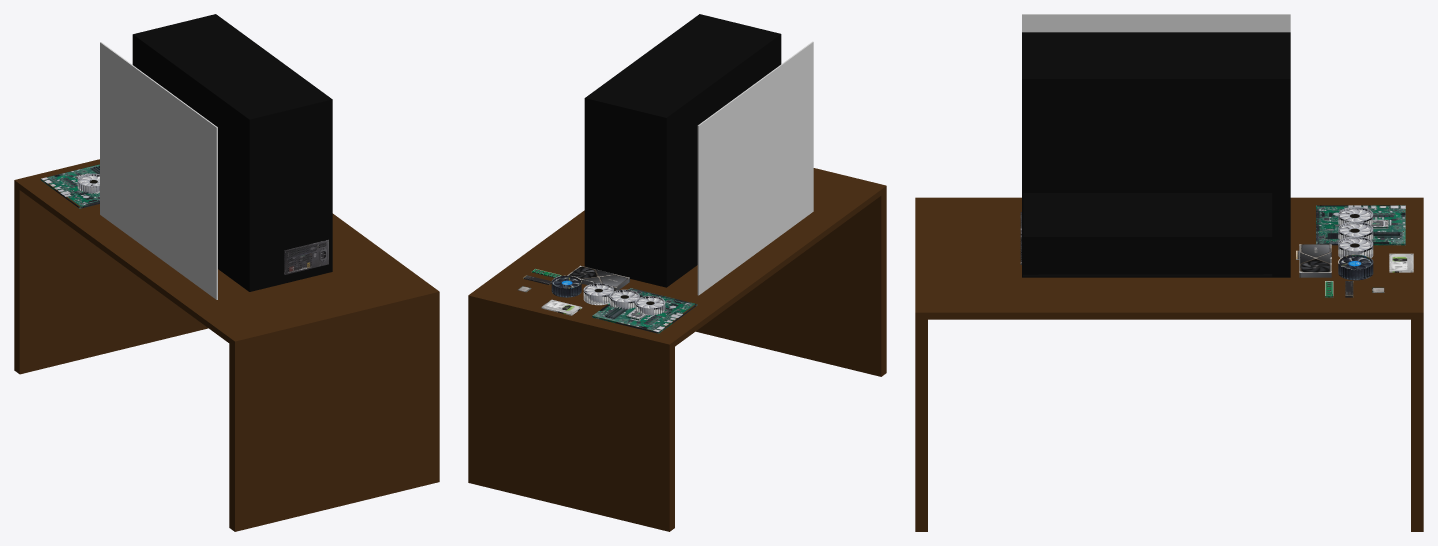
The picture shows the model from 3 angles, left to right: view 1: azimuth 30°, elevation 25°; view 2: azimuth 150°, elevation 25°; view 3: azimuth 270°, elevation 25°; orthographic projection. The views are drawn at different scales.
Parts seen in each view (by area): view 1: Cube, PC, PC.001, MotherBoard; view 2: Cube, PC, PC.001, MotherBoard, Cylinder.001, VGA, Cpu Fan; view 3: PC, Cube, PC.001, MotherBoard, Cylinder.001, VGA, Cpu Fan.
Boxes of the visible parts, box(x1,y1,x2,y2) form: Cube: box(14, 159, 439, 531); PC: box(132, 14, 332, 291); PC.001: box(100, 42, 217, 299); MotherBoard: box(40, 164, 99, 208); Cube: box(468, 168, 886, 531); PC: box(584, 14, 781, 287); PC.001: box(697, 41, 813, 295); MotherBoard: box(592, 288, 697, 333); Cylinder.001: box(583, 283, 665, 315); VGA: box(567, 265, 629, 291); Cpu Fan: box(551, 275, 581, 297); PC: box(1020, 32, 1290, 277); Cube: box(915, 197, 1423, 531); PC.001: box(1022, 14, 1290, 32); MotherBoard: box(1316, 205, 1405, 245); Cylinder.001: box(1338, 207, 1373, 258); VGA: box(1296, 244, 1331, 277); Cpu Fan: box(1338, 254, 1373, 280).
Size of the model in its own units: 184 by 313 by 344.
12 materials, 9 textured.
